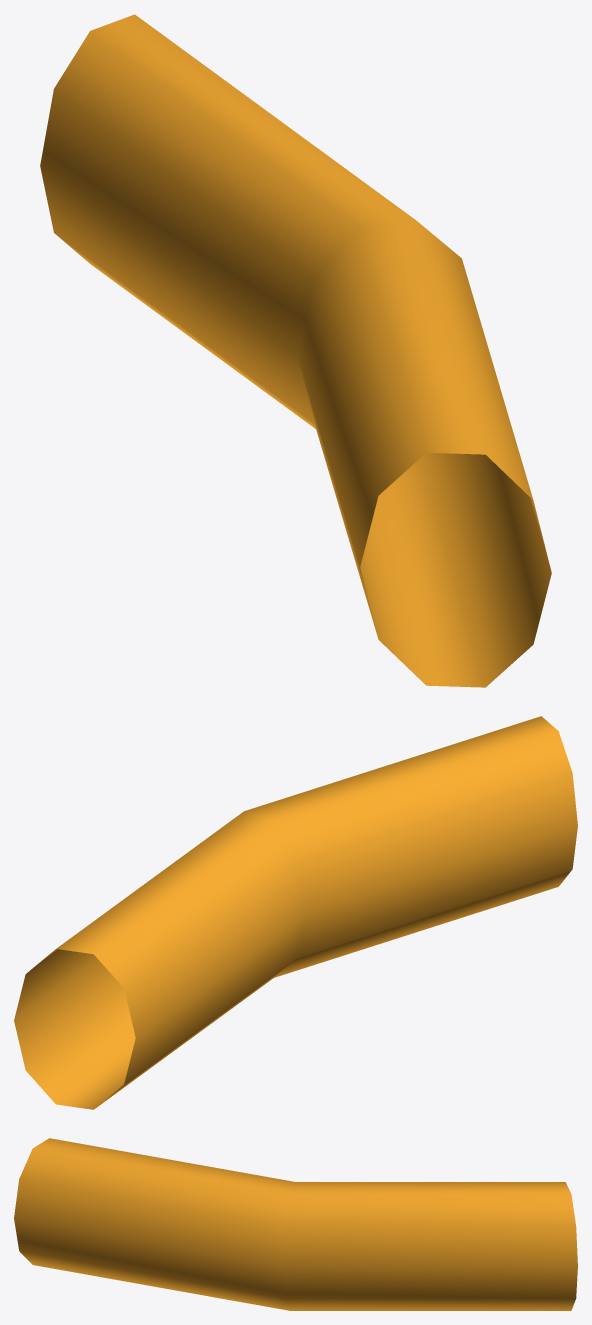
File: TorusChunk_7_6.obj
The picture shows the model from 3 angles, top to bottom: view 1: azimuth 30°, elevation 25°; view 2: azimuth 150°, elevation 25°; view 3: azimuth 270°, elevation 25°; orthographic projection. The views are drawn at different scales.
Visible parts, largest first — view 1: TorusChunk_7_6; view 2: TorusChunk_7_6; view 3: TorusChunk_7_6.
Part boxes in pixels (x1,y1,x2,y2): TorusChunk_7_6: (40, 14, 551, 687); TorusChunk_7_6: (14, 716, 577, 1109); TorusChunk_7_6: (14, 1138, 577, 1310).
Size of the model in its own units: 0.4057 by 0.27 by 1.18.
